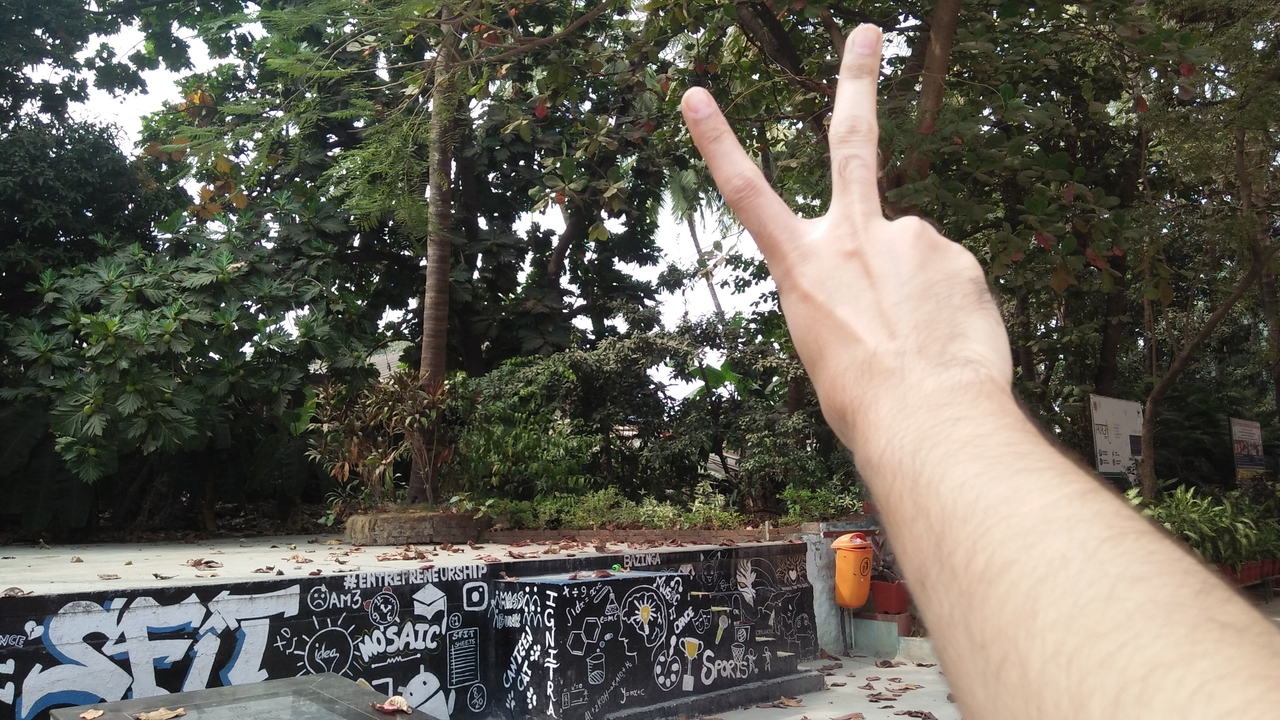fingertip: (837, 19, 897, 72), (674, 82, 724, 132)
